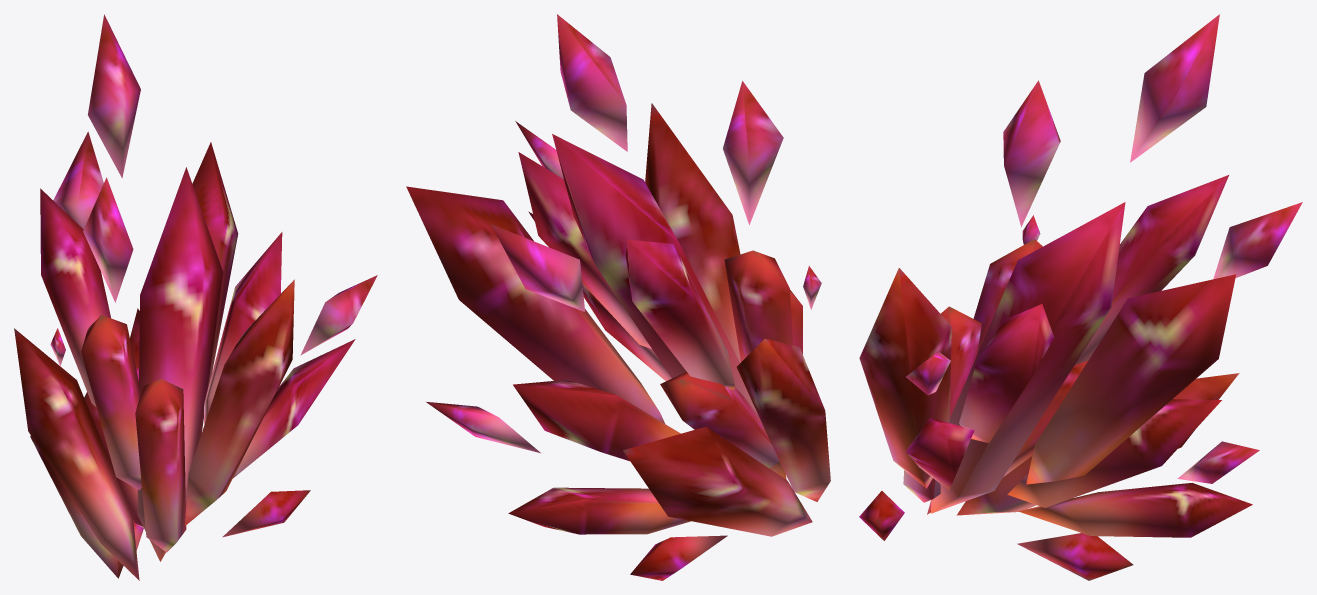
File: 1_Fashi_w_level_03.FBX
3 views of the same model, side by side, from view 1: azimuth 30°, elevation 25°; view 2: azimuth 150°, elevation 25°; view 3: azimuth 270°, elevation 25° (orthographic). The views are drawn at different scales.
Parts seen in each view (by area): view 1: 1_Fashi_w_level_03; view 2: 1_Fashi_w_level_03; view 3: 1_Fashi_w_level_03.
Boxes of the visible parts, x1,y1,x2,y2 form: 1_Fashi_w_level_03: [14, 14, 377, 580]; 1_Fashi_w_level_03: [406, 14, 830, 580]; 1_Fashi_w_level_03: [859, 14, 1302, 580].
Size of the model in its own units: 41.51 by 64.37 by 44.3.
1 material, 1 textured.
